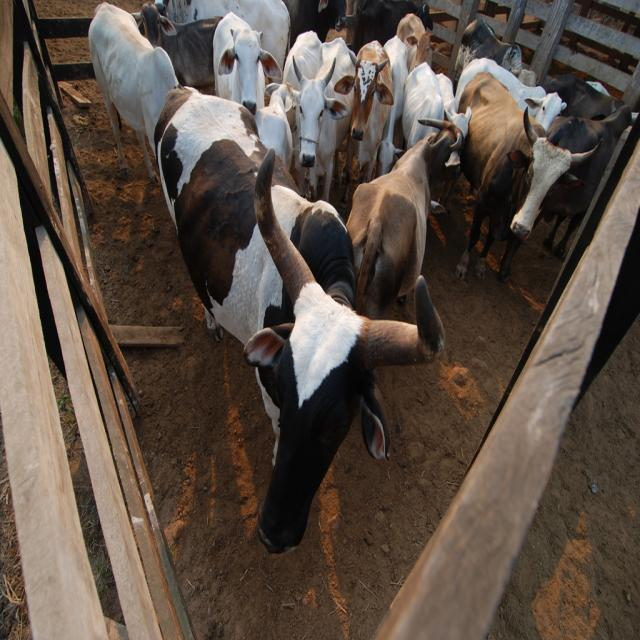Cattle: (89, 0, 632, 554)
